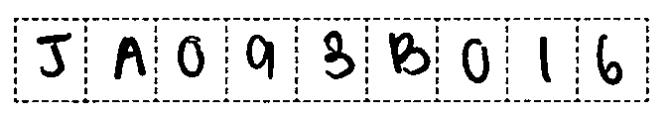0: (454, 31, 498, 90), (172, 31, 210, 85)
1: (526, 31, 565, 88)
3: (317, 26, 359, 85)
6: (589, 30, 630, 92)
9: (238, 29, 283, 84)
A: (111, 31, 151, 82)
B: (381, 29, 434, 83)
J: (29, 26, 75, 82)
